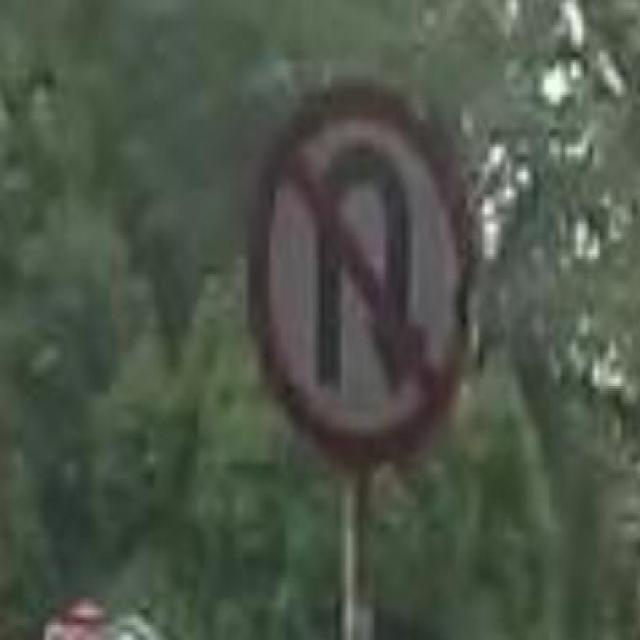traffic sign: (252, 92, 476, 476)
